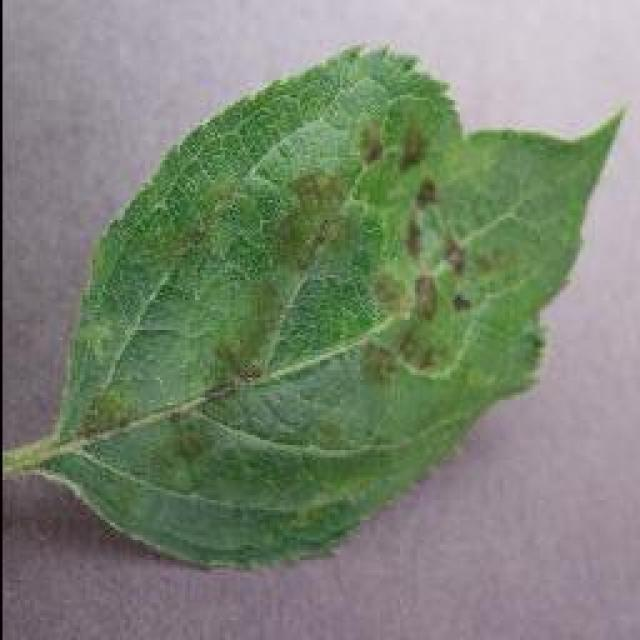apple scab disease: (5, 38, 627, 570)
